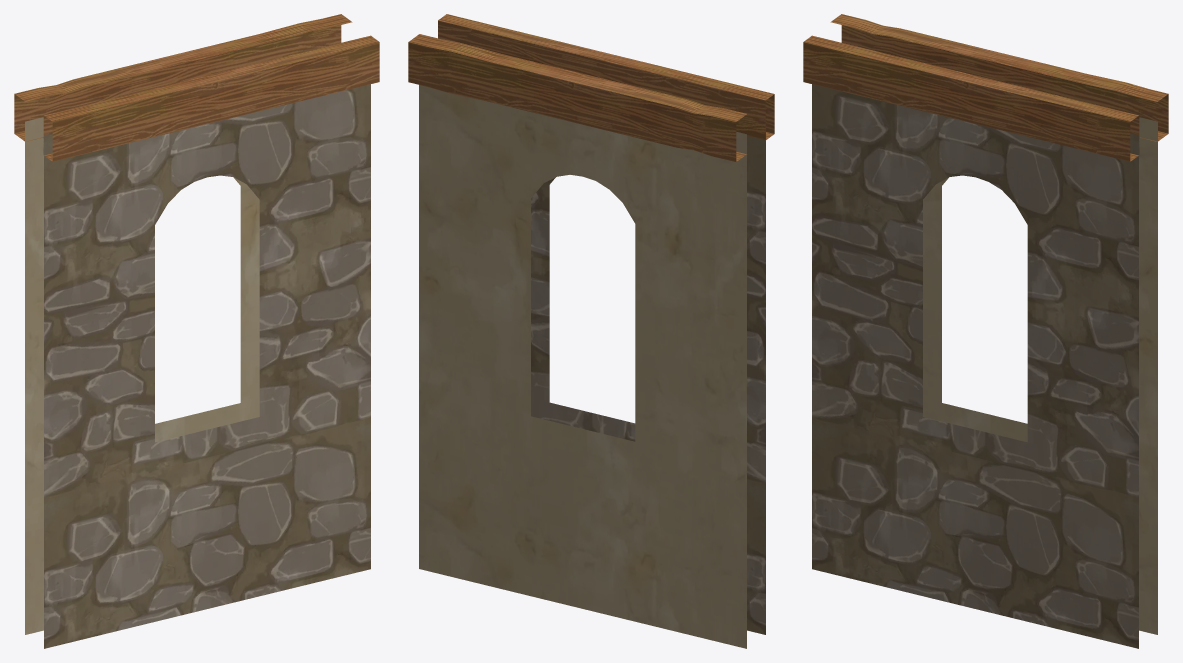
Rendered from wall_unevenbrick_window_thin_round.glb.
The picture shows the model from 3 angles, left to right: view 1: azimuth 30°, elevation 25°; view 2: azimuth 150°, elevation 25°; view 3: azimuth 330°, elevation 25°; orthographic projection.
Bounding box in the file's own units: 2 × 3.12 × 0.4066.
3 materials, 3 textured.
